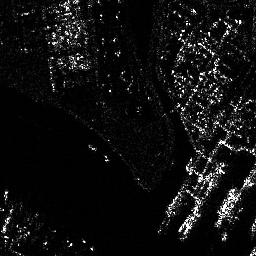ship: (217, 186, 237, 217)
